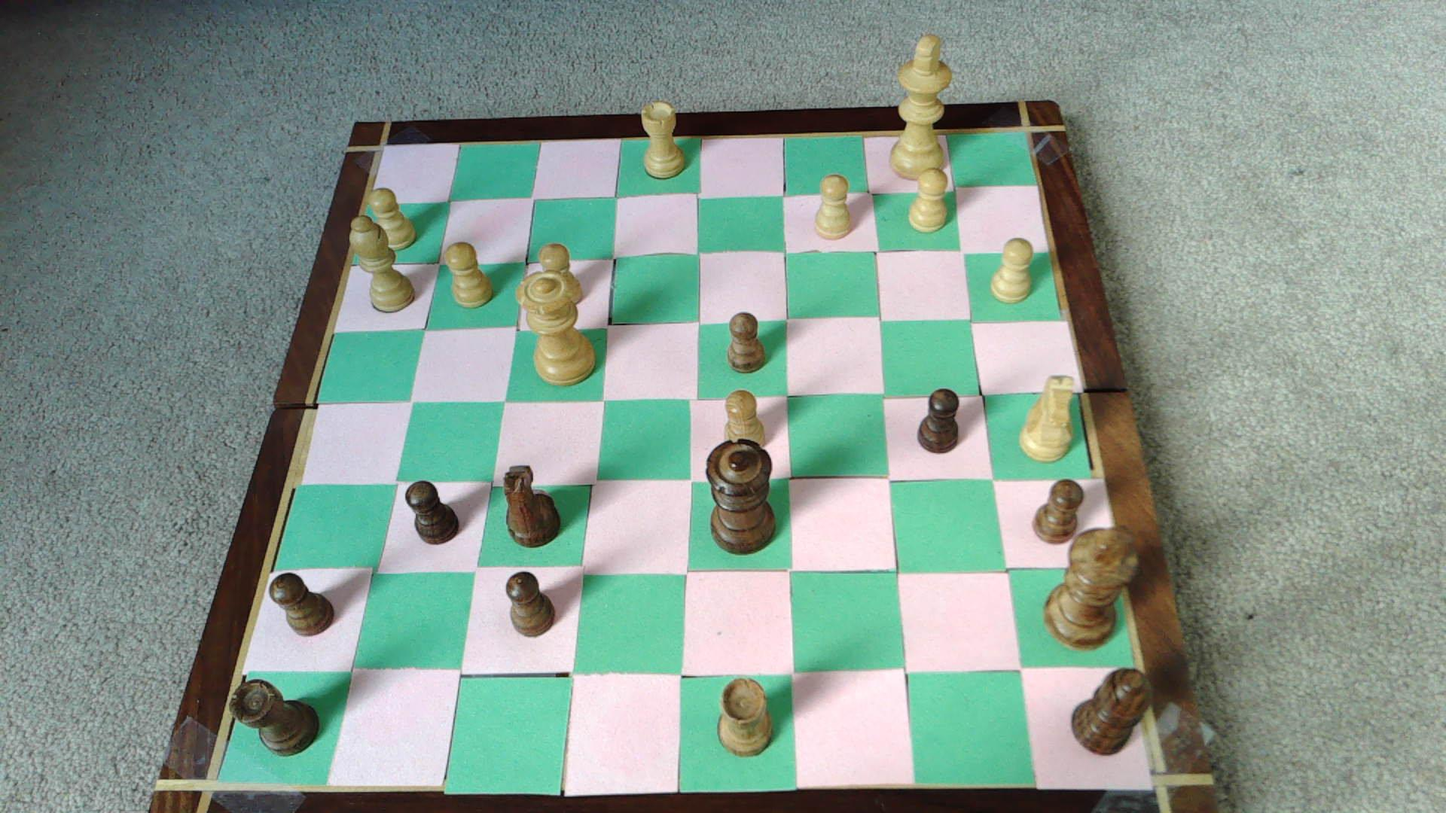dark_piece: (1045, 530, 1138, 647), (707, 440, 775, 553), (231, 679, 319, 754), (1071, 669, 1148, 753), (503, 464, 560, 547), (718, 676, 773, 755), (270, 572, 334, 635), (1032, 480, 1084, 543), (406, 481, 458, 543), (506, 572, 555, 636), (918, 388, 959, 452), (727, 312, 766, 372)
white_piece: (889, 32, 954, 179), (518, 274, 595, 385), (349, 214, 415, 312), (1019, 375, 1075, 461), (641, 100, 686, 178), (363, 188, 416, 251), (444, 242, 493, 307), (539, 243, 585, 305), (990, 237, 1033, 303), (908, 169, 949, 232), (814, 175, 853, 239), (724, 390, 766, 446)
